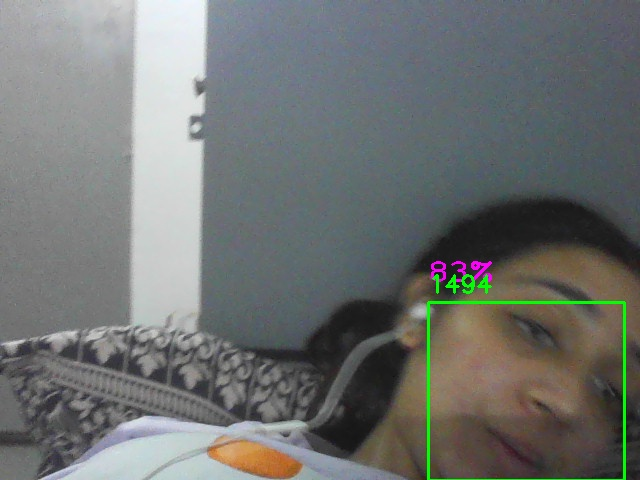real: (428, 302, 625, 480)
